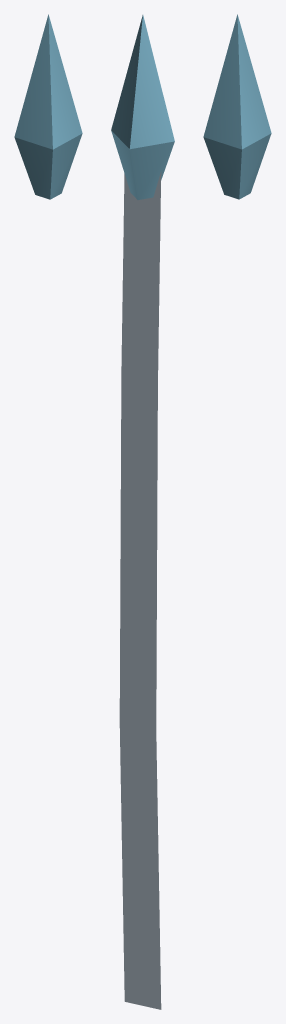
File: Tartaglia_HavocRanged_MarkHandoff_Projectile.fbx
3 renders of one model, left to right at view 1: azimuth 90°, elevation 25°; view 2: azimuth 150°, elevation 25°; view 3: azimuth 270°, elevation 25°, orthographic.
Visible parts, largest first — view 1: PART_LongWaterArrowHead; view 2: PART_LongContinuousWaterTail, PART_LongWaterArrowHead; view 3: PART_LongWaterArrowHead.
Part boxes in pixels (box(x1,y1,x2,y2)): PART_LongWaterArrowHead: box(14, 14, 82, 199); PART_LongContinuousWaterTail: box(119, 171, 161, 1009); PART_LongWaterArrowHead: box(111, 15, 174, 199); PART_LongWaterArrowHead: box(203, 14, 271, 199).
Size of the model in its own units: 17.85 by 285 by 17.85.
